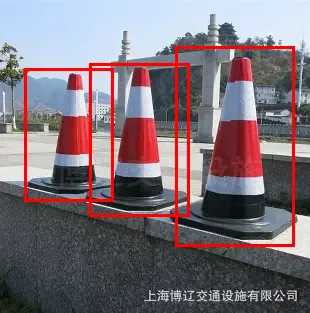traffic_cone: (181, 51, 295, 244), (94, 61, 188, 214), (21, 66, 113, 199)
